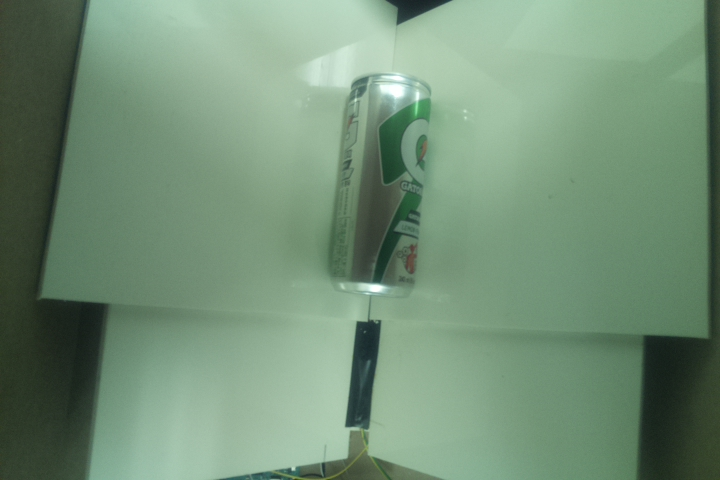can: (324, 66, 435, 295)
